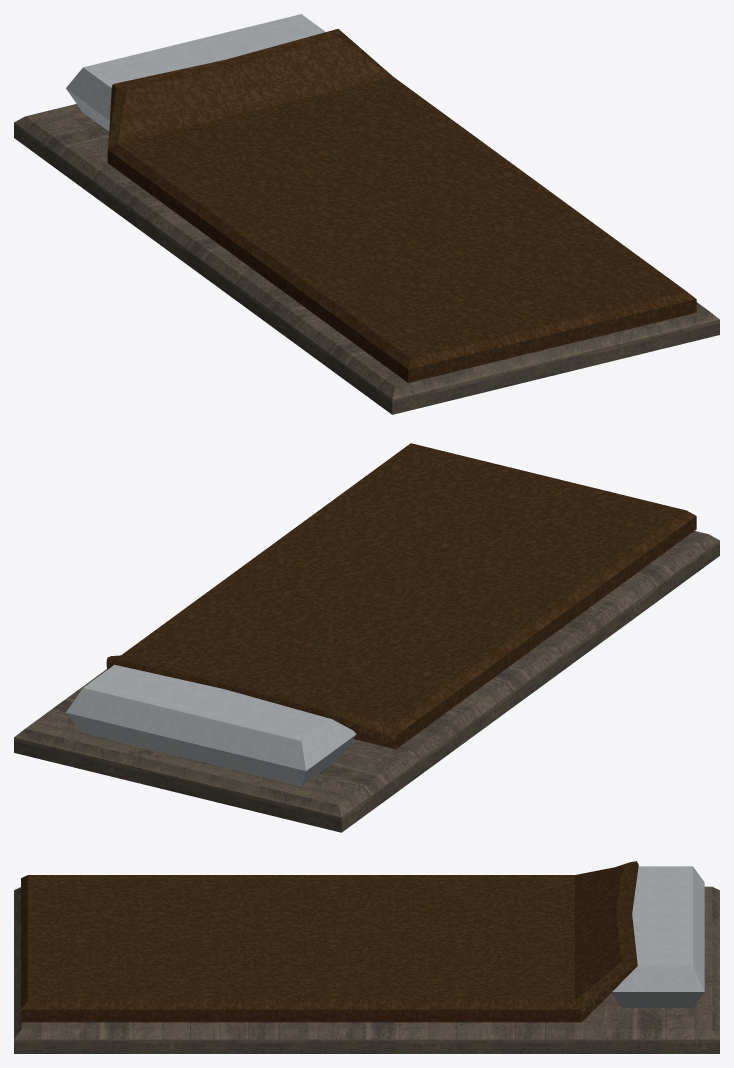
Rendered from M_Floor_Bed.glb.
3 renders of one model, top to bottom at view 1: azimuth 30°, elevation 25°; view 2: azimuth 150°, elevation 25°; view 3: azimuth 270°, elevation 25°, orthographic. The views are drawn at different scales.
Visible parts, largest first — view 1: Bed; view 2: Bed; view 3: Bed.
Boxes of the visible parts, x1,y1,x2,y2 form: Bed: [14, 14, 719, 414]; Bed: [14, 443, 719, 832]; Bed: [14, 861, 719, 1053].
Bounding box in the file's own units: 3 × 0.6487 × 6.
3 materials, 3 textured.
